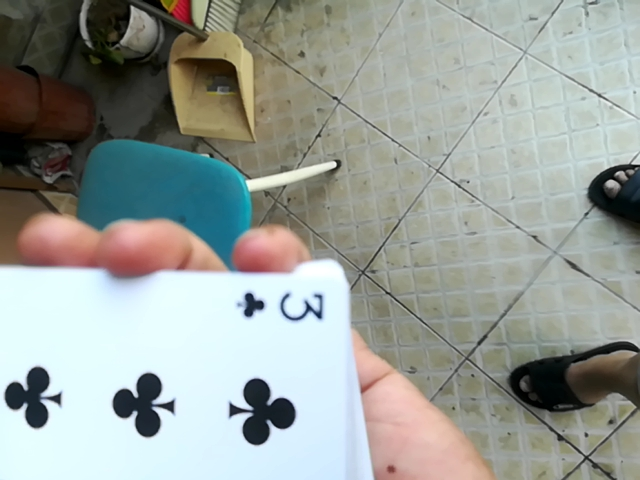mh 3: (0, 254, 392, 477)
